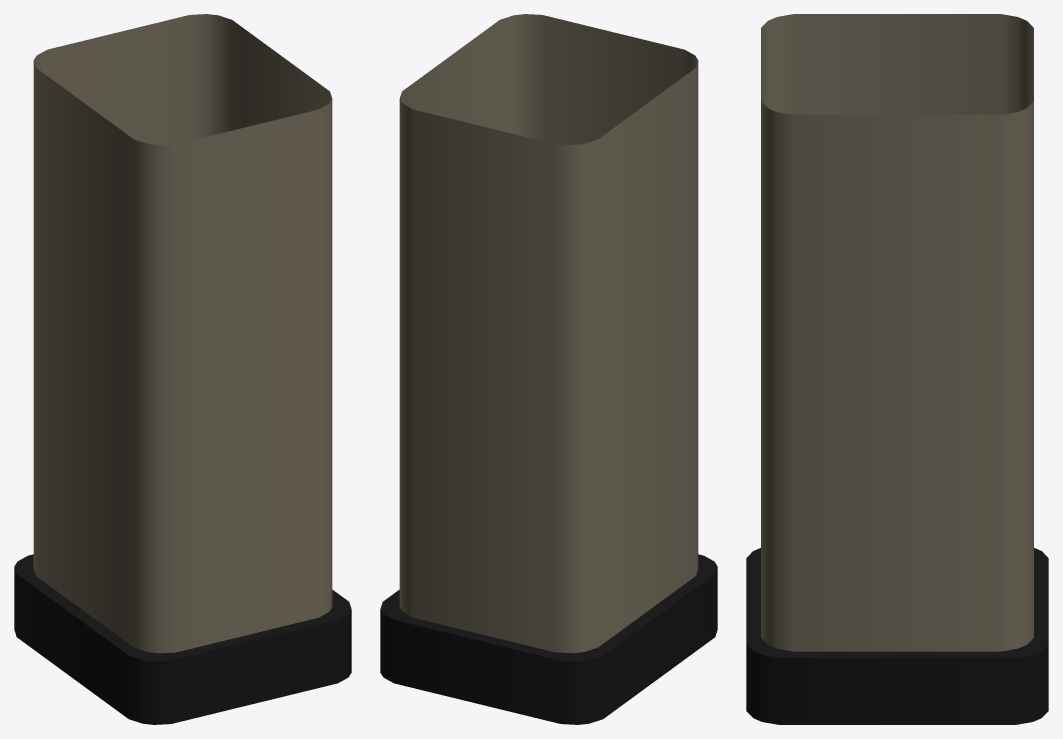
The model's file is SM_pillar_05.fbx.
3 renders of one model, left to right at view 1: azimuth 30°, elevation 25°; view 2: azimuth 150°, elevation 25°; view 3: azimuth 270°, elevation 25°, orthographic. The views are drawn at different scales.
Visible parts, largest first — view 1: pillar_05; view 2: pillar_05; view 3: pillar_05.
Boxes of the visible parts, left/top/right/bottom form: pillar_05: left=14, top=14, right=351, bottom=724; pillar_05: left=380, top=14, right=717, bottom=724; pillar_05: left=746, top=14, right=1048, bottom=724.
Bounding box in the file's own units: 73.79 × 183 × 83.03.
